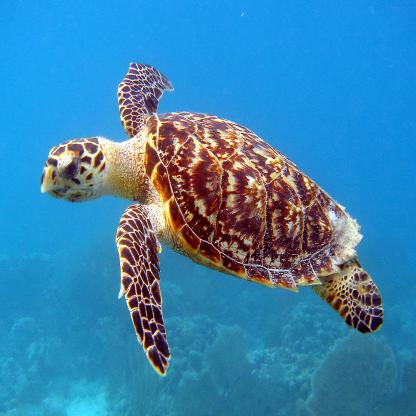turtle: (35, 126, 108, 210)
